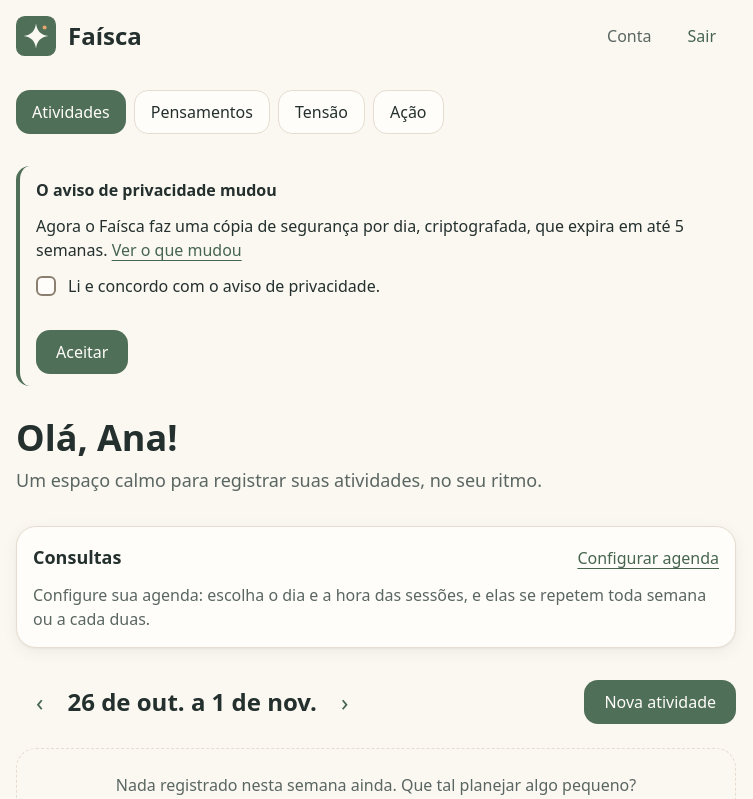
Test: faixa do aviso de privacidade versão 7 › aparece para o paciente, sem bloquear, e some depois do aceite
Expected: the element "O aviso de privacidade mudou" shows "cópia de segurança por dia", x1=36 y1=215 x2=684 y2=261
Expected: the link "Pensamentos" is shown, x1=134 y1=90 x2=270 y2=134
Sem marcar a caixa, não aceita.
Step 1. Click the button "Aceitar" → coordinates (82, 352), box x1=36 y1=330 x2=128 y2=374
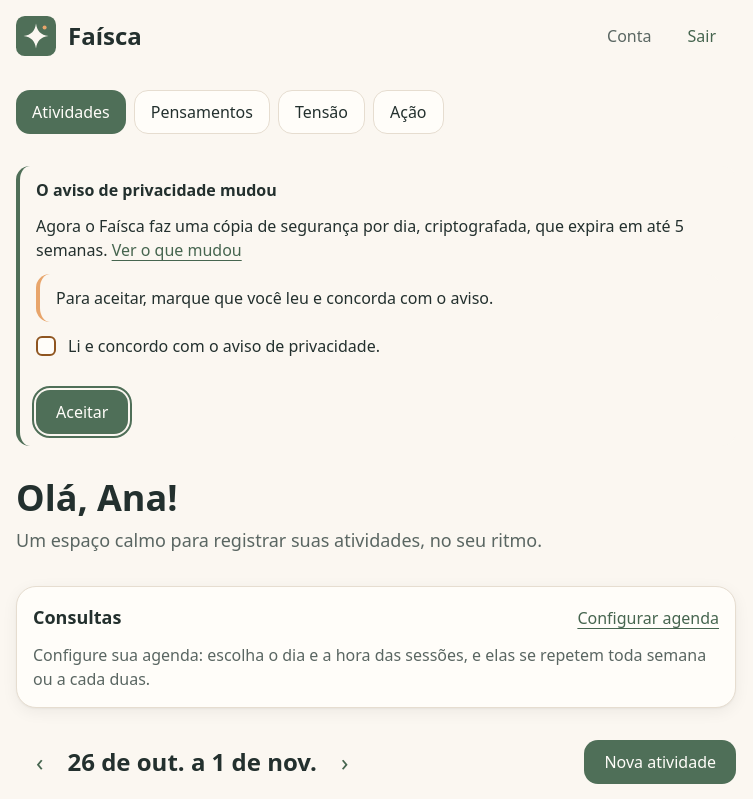
Expected: the message shows "marque que você leu e concorda", x1=56 y1=287 x2=493 y2=309
Step 2. Click the checkbox labelled "Li e concordo com o aviso de privacidade." → coordinates (46, 346), box x1=36 y1=336 x2=56 y2=356
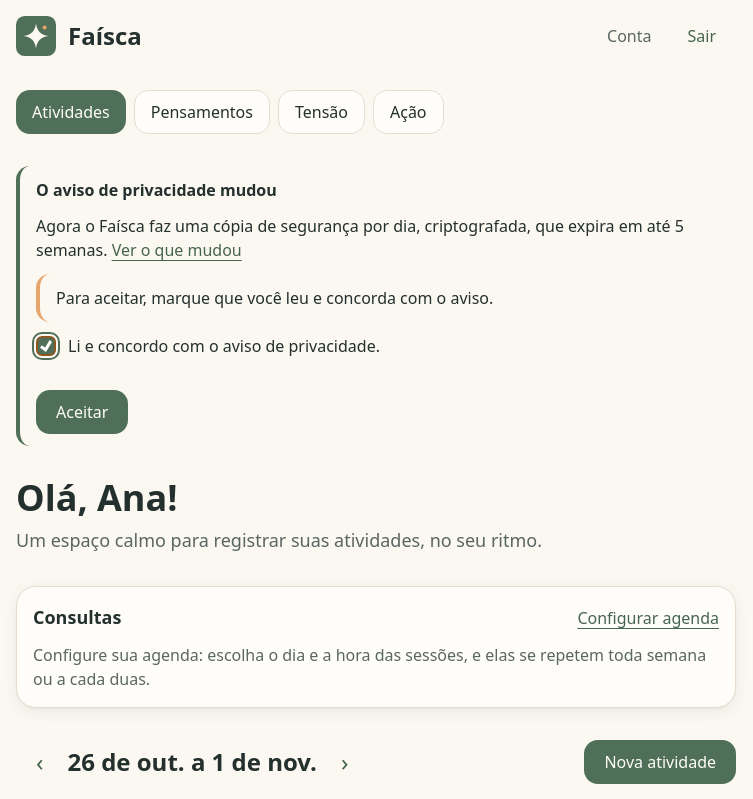
Step 3. Click the button "Aceitar" → coordinates (82, 412), box x1=36 y1=390 x2=128 y2=434
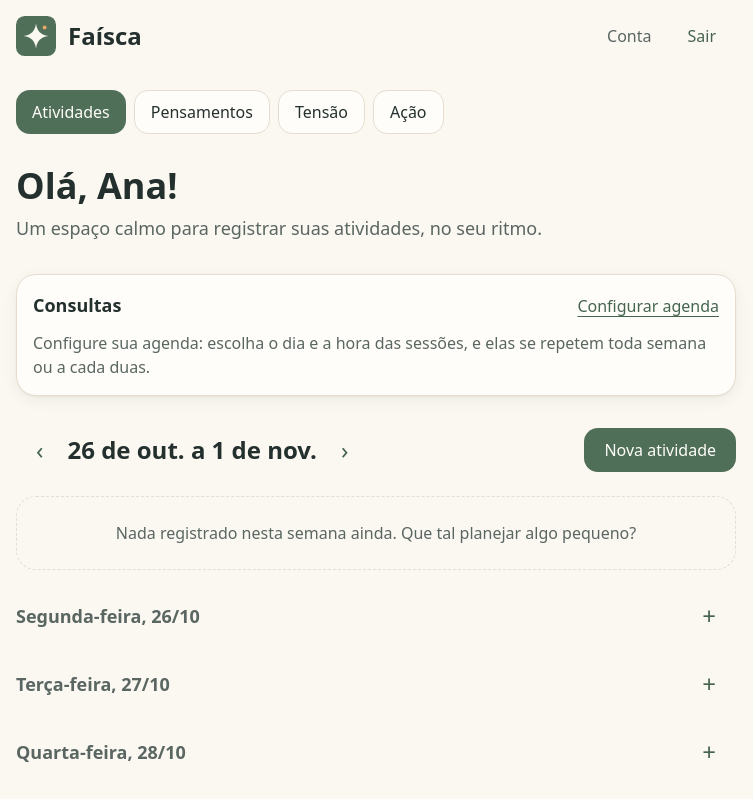
Expected: the text "O aviso de privacidade mudou" is gone
